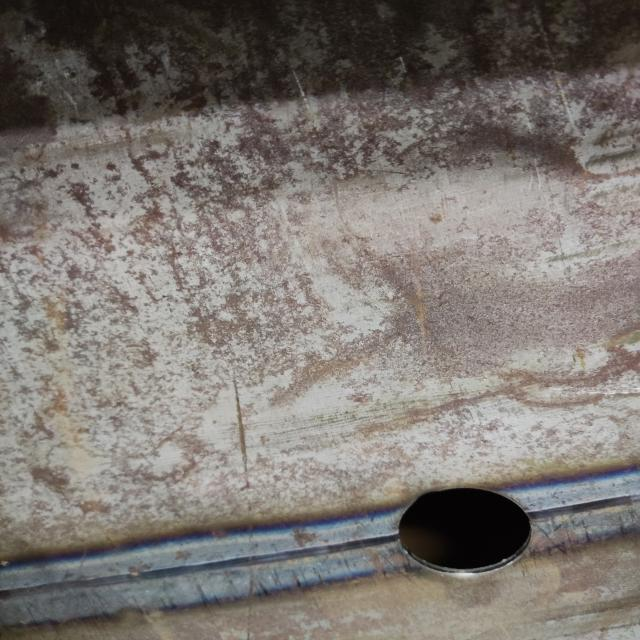seam: (0, 446, 637, 640)
